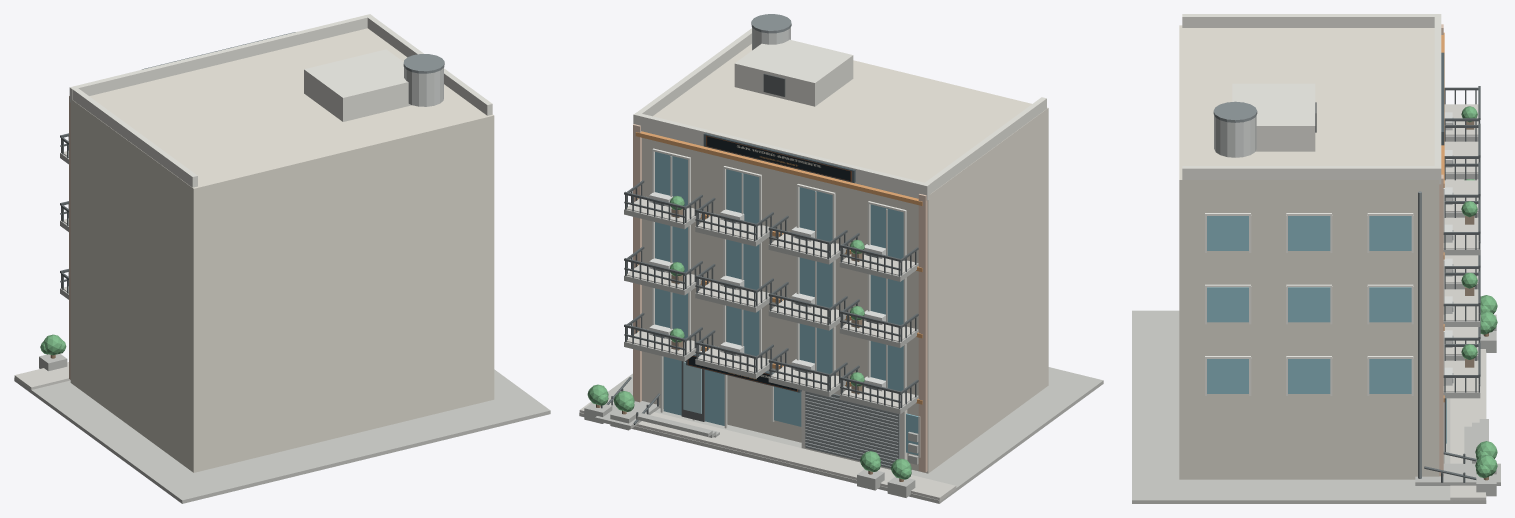
The model's file is Low_Rise_Apartment_Building.glb.
3 renders of one model, left to right at view 1: azimuth 30°, elevation 25°; view 2: azimuth 150°, elevation 25°; view 3: azimuth 270°, elevation 25°, orthographic. The views are drawn at different scales.
Visible parts, largest first — view 1: Merged_223_215_193_255, Merged_167_169_160_255, Merged_226_224_210_255, Merged_191_197_192_255, Merged_196_194_183_255, Merged_74_84_87_255; view 2: Merged_223_215_193_255, Merged_82_151_172_255, Merged_226_224_210_255, Merged_196_194_183_255, Merged_39_45_47_255, Merged_157_159_153_255, Merged_167_169_160_255, Merged_239_238_224_255, Merged_74_84_87_255, Merged_221_174_143_255, Merged_137_147_150_255, Merged_213_112_49_255 (+6 smaller); view 3: Merged_223_215_193_255, Merged_167_169_160_255, Merged_82_151_172_255, Merged_226_224_210_255, Merged_196_194_183_255, Merged_157_159_153_255, Merged_39_45_47_255, Merged_239_238_224_255, Merged_53_127_64_255, Merged_74_84_87_255, Merged_191_197_192_255, Merged_221_174_143_255 (+1 smaller).
Boxes of the visible parts, bbox=[...] form: Merged_223_215_193_255: bbox=[70, 28, 494, 472]; Merged_167_169_160_255: bbox=[14, 369, 550, 503]; Merged_226_224_210_255: bbox=[69, 14, 492, 187]; Merged_191_197_192_255: bbox=[404, 67, 443, 106]; Merged_196_194_183_255: bbox=[14, 151, 70, 389]; Merged_74_84_87_255: bbox=[403, 54, 444, 73]; Merged_223_215_193_255: bbox=[642, 44, 1048, 473]; Merged_82_151_172_255: bbox=[655, 152, 918, 455]; Merged_226_224_210_255: bbox=[633, 28, 1046, 469]; Merged_196_194_183_255: bbox=[579, 199, 956, 501]; Merged_39_45_47_255: bbox=[601, 180, 918, 424]; Merged_157_159_153_255: bbox=[584, 198, 918, 497]; Merged_167_169_160_255: bbox=[579, 367, 1103, 503]; Merged_239_238_224_255: bbox=[652, 148, 920, 457]; Merged_74_84_87_255: bbox=[653, 14, 899, 468]; Merged_221_174_143_255: bbox=[633, 124, 927, 472]; Merged_137_147_150_255: bbox=[805, 391, 898, 466]; Merged_213_112_49_255: bbox=[635, 131, 922, 404]; Merged_223_215_193_255: bbox=[1179, 25, 1439, 479]; Merged_167_169_160_255: bbox=[1132, 310, 1486, 503]; Merged_82_151_172_255: bbox=[1207, 216, 1411, 393]; Merged_226_224_210_255: bbox=[1182, 14, 1441, 184]; Merged_196_194_183_255: bbox=[1443, 104, 1485, 501]; Merged_157_159_153_255: bbox=[1415, 135, 1500, 496]; Merged_39_45_47_255: bbox=[1424, 86, 1480, 482]; Merged_239_238_224_255: bbox=[1205, 188, 1444, 463]; Merged_53_127_64_255: bbox=[1461, 106, 1497, 477]; Merged_74_84_87_255: bbox=[1213, 101, 1453, 478]; Merged_191_197_192_255: bbox=[1214, 115, 1256, 157]; Merged_221_174_143_255: bbox=[1439, 24, 1443, 476].
Bounding box in the file's own units: 15.2 × 13.19 × 12.49.
Materials: 22 (2 with a texture image).
